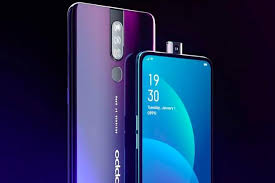oppo: (67, 1, 160, 183)
